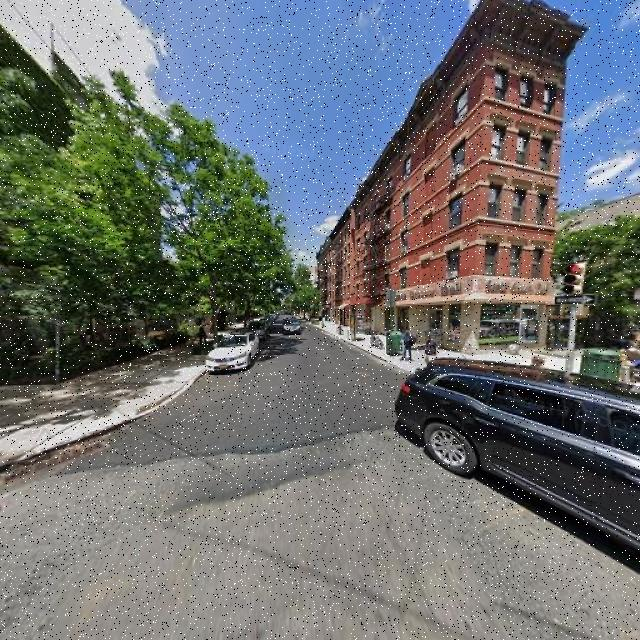Building: (355, 1, 557, 359), (319, 203, 352, 334)
